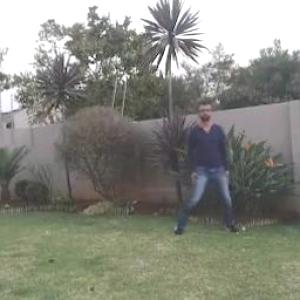follow: (186, 91, 228, 231)
